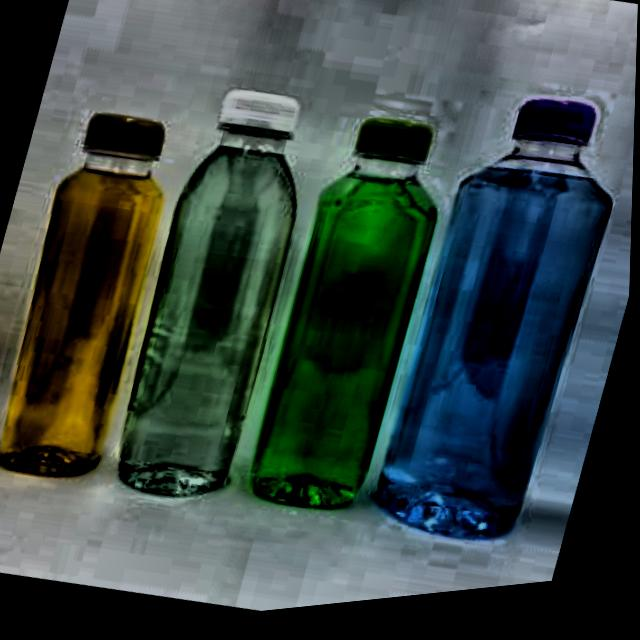Bottles: (343, 62, 637, 595), (216, 81, 486, 562), (77, 70, 347, 521), (0, 82, 210, 518)
